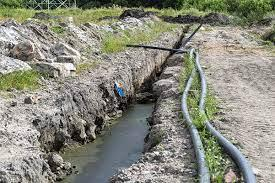Stagnant water: (50, 39, 197, 182)
